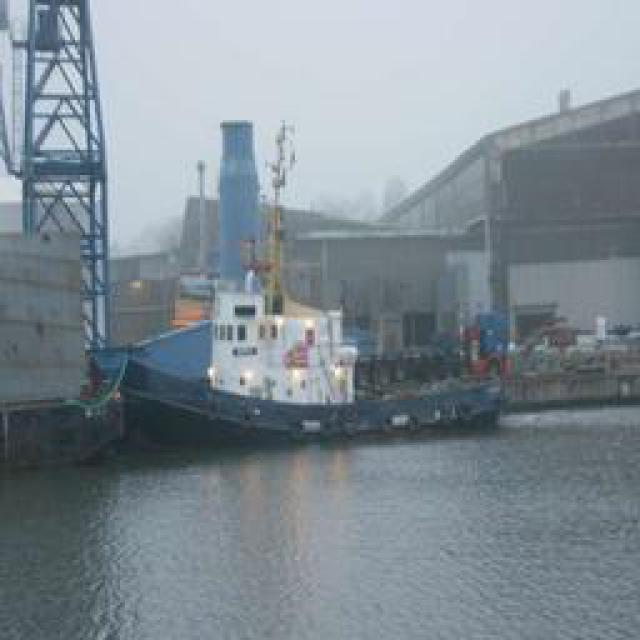Ship: (114, 168, 509, 443)
